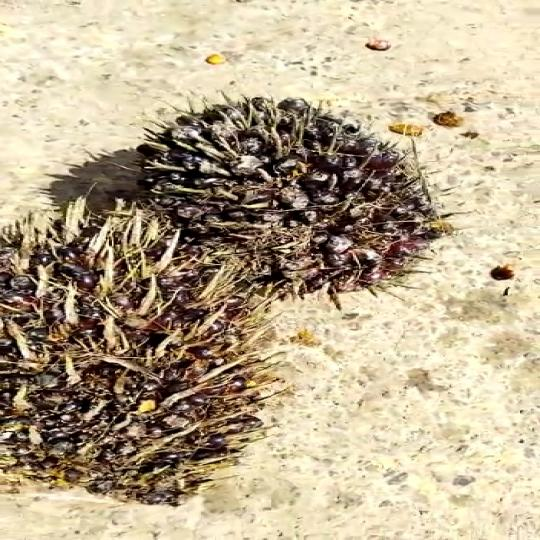mentah: (0, 195, 293, 510), (123, 92, 461, 313)
